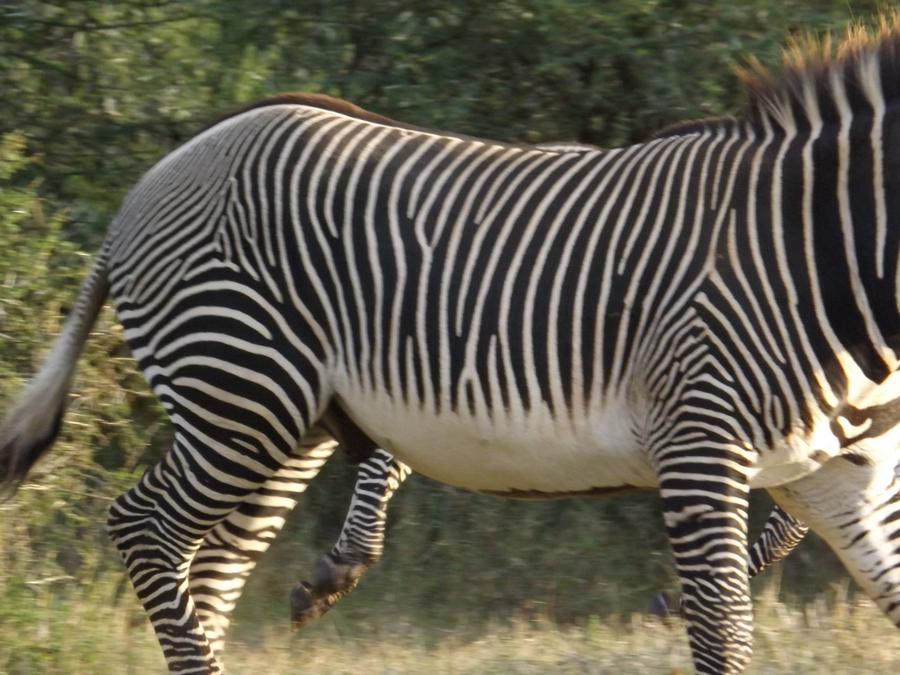zebra_grevys: (90, 78, 810, 462)
